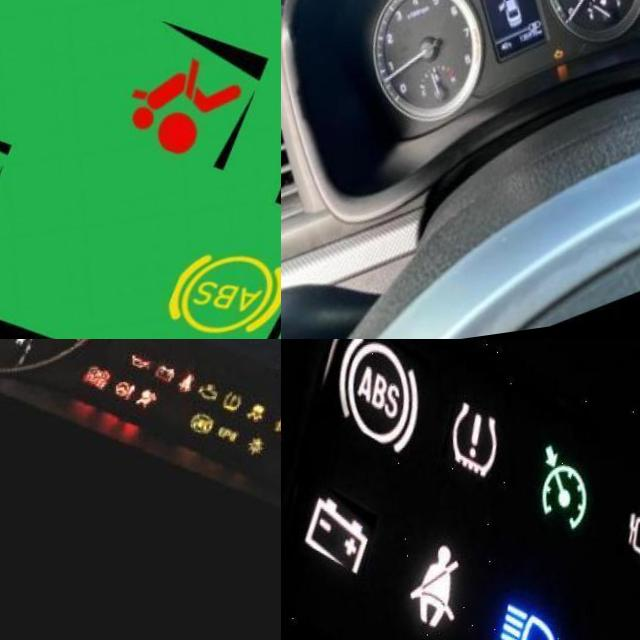Seat Belt: (178, 376, 200, 400)
